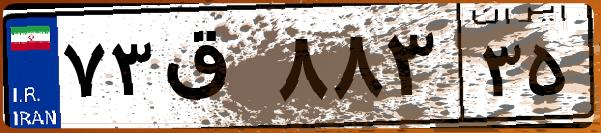3: (385, 28, 445, 110), (475, 38, 525, 113), (110, 28, 158, 98)
5: (525, 38, 570, 115)
7: (57, 26, 110, 100)
8: (270, 28, 330, 110), (330, 28, 385, 110)
ق: (158, 20, 270, 120)
